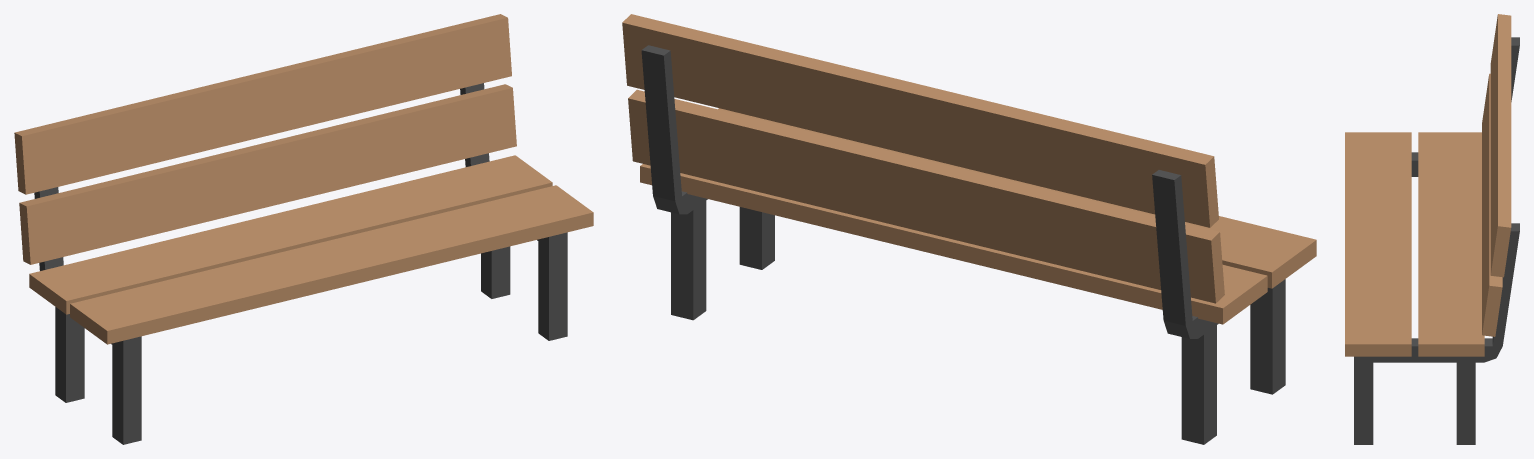
File: Bench_02.fbx
3 views of the same model, side by side, from view 1: azimuth 30°, elevation 25°; view 2: azimuth 150°, elevation 25°; view 3: azimuth 270°, elevation 25° (orthographic). The views are drawn at different scales.
Parts seen in each view (by area): view 1: Bench_02; view 2: Bench_02; view 3: Bench_02.
Boxes of the visible parts, x1,y1,x2,y2 form: Bench_02: [14, 14, 593, 444]; Bench_02: [622, 14, 1316, 444]; Bench_02: [1345, 14, 1519, 444].
Size of the model in its own units: 193 by 96.91 by 67.39.
